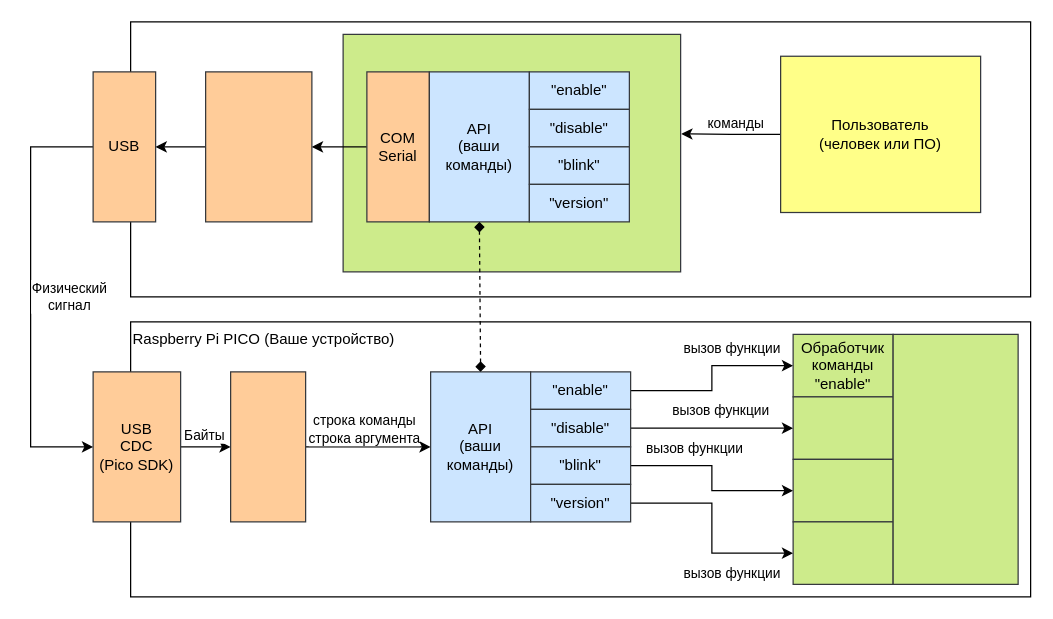
Some shapes in this 1053 by 619 pixel diagram are drawn without their labels. The shapes that lost their labels are listed below. From the top down, each one's box as (x1, y1, x2, y2) in pixels, then its label:
(204, 71, 312, 222): Драйвер ОС для USB CDC
(342, 33, 681, 272): Программа общения по COM (PUTTY, Python)
(129, 21, 1031, 297): ПК
(229, 371, 306, 522): Протокол приёма команд
(792, 396, 893, 459): Обработчик команды "disable"
(892, 333, 1018, 584): Низкоуровневый код, работы с GPIO, памятью и периферией
(792, 458, 893, 522): Обработчик команды "blink"
(792, 521, 893, 584): Обработчик команды "version"
